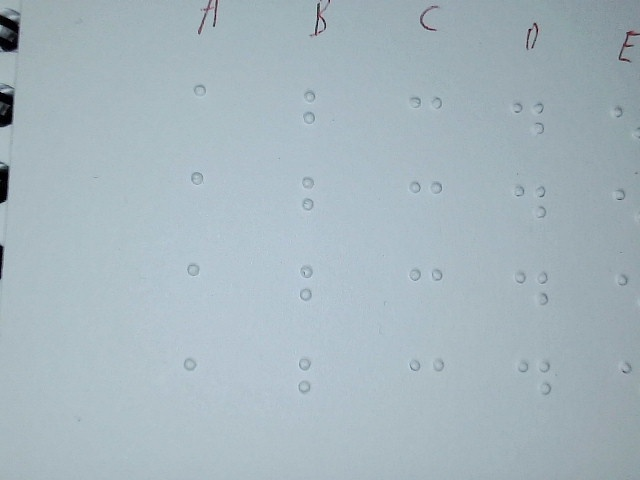A: (182, 71, 234, 158), (182, 159, 234, 246), (179, 253, 231, 340), (175, 347, 227, 434)
B: (295, 81, 344, 156), (294, 166, 343, 241), (292, 255, 341, 330), (290, 348, 339, 423)
C: (402, 85, 453, 161), (401, 168, 452, 244), (402, 258, 453, 334), (402, 349, 453, 425)
